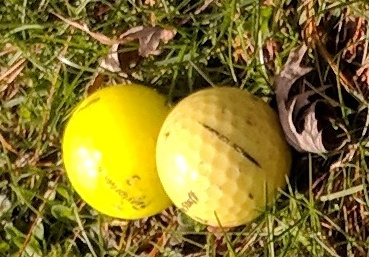ball: (60, 82, 190, 222)
